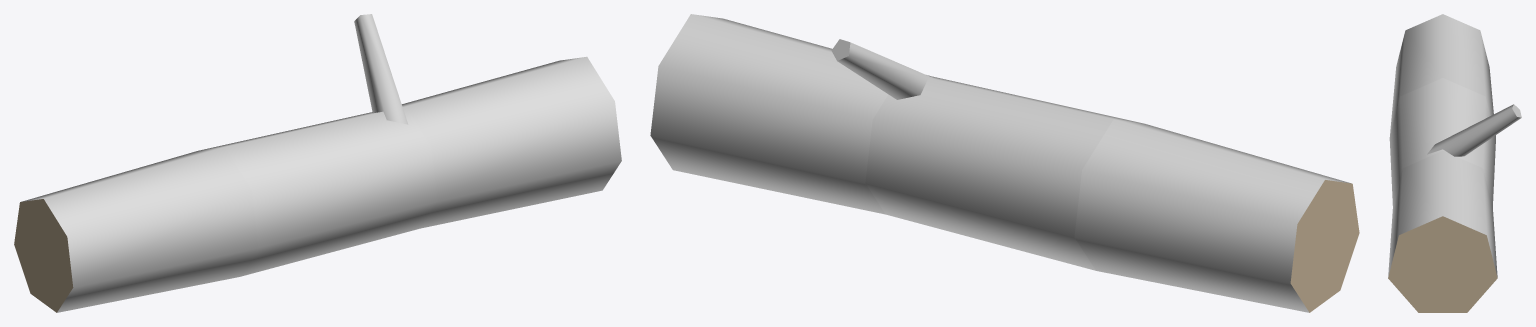
File: log.glb
The picture shows the model from 3 angles, left to right: view 1: azimuth 30°, elevation 25°; view 2: azimuth 150°, elevation 25°; view 3: azimuth 270°, elevation 25°; orthographic projection. The views are drawn at different scales.
Parts seen in each view (by area): view 1: Log; view 2: Log; view 3: Log.
Part boxes in pixels (x1,y1,x2,y2): Log: (14,14,621,312); Log: (650,14,1359,312); Log: (1388,14,1521,312).
Bounding box in the file's own units: 3 × 0.926 × 0.8094.
